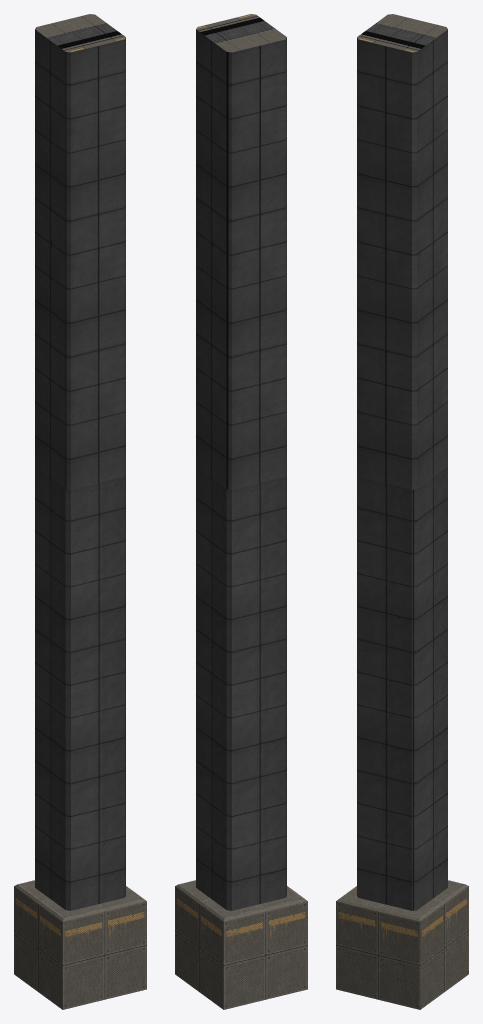
File: Pillar.FBX
3 renders of one model, left to right at view 1: azimuth 30°, elevation 25°; view 2: azimuth 210°, elevation 25°; view 3: azimuth 330°, elevation 25°, orthographic.
Visible parts, largest first — view 1: Box001; view 2: Box001; view 3: Box001.
Part boxes in pixels (box(x1,y1,x2,y2)): Box001: box(14, 14, 146, 1009); Box001: box(175, 14, 307, 1009); Box001: box(336, 14, 468, 1009).
Size of the model in its own units: 75 by 75 by 807.
